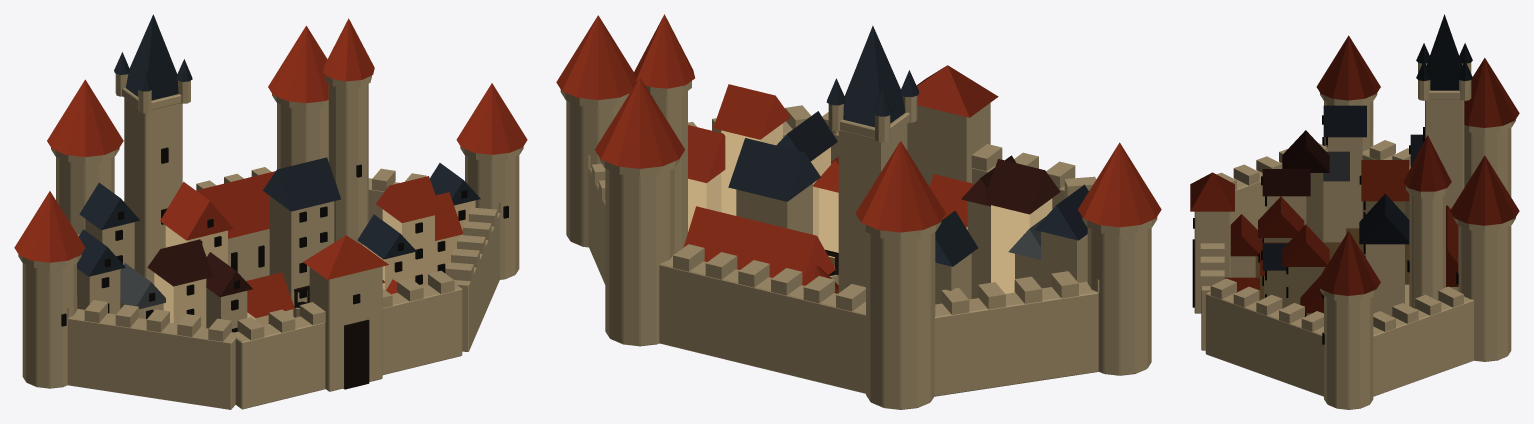
File: settle_3_2.obj
3 views of the same model, side by side, from view 1: azimuth 30°, elevation 25°; view 2: azimuth 150°, elevation 25°; view 3: azimuth 270°, elevation 25° (orthographic). The views are drawn at different scales.
Visible parts, largest first — view 1: core_stone, core_roof_civic, core_roof_slate, core_roof_tile, core_plaster, core_roof_tile_old, core_slate, core_window, core_wood_dark, core_roof_lead; view 2: core_stone, core_roof_civic, core_roof_slate, core_plaster, core_roof_tile, core_slate, core_roof_tile_old, core_roof_lead; view 3: core_stone, core_roof_civic, core_roof_tile, core_roof_slate, core_plaster, core_roof_tile_old, core_slate, core_cloth, core_roof_lead, core_window.
Boxes of the visible parts, <box> form: core_stone: <box>18,73,523,409</box>; core_roof_civic: <box>14,18,527,279</box>; core_roof_slate: <box>77,157,480,276</box>; core_roof_tile: <box>160,176,462,318</box>; core_plaster: <box>154,200,475,327</box>; core_roof_tile_old: <box>147,239,252,297</box>; core_slate: <box>114,14,192,100</box>; core_window: <box>61,147,508,332</box>; core_wood_dark: <box>294,285,369,389</box>; core_roof_lead: <box>119,263,165,309</box>; core_stone: <box>560,81,1157,409</box>; core_roof_civic: <box>556,14,1161,293</box>; core_roof_slate: <box>728,111,1088,266</box>; core_plaster: <box>688,123,1052,293</box>; core_roof_tile: <box>688,84,974,227</box>; core_slate: <box>826,25,918,127</box>; core_roof_tile_old: <box>961,155,1060,214</box>; core_roof_lead: <box>1008,216,1046,259</box>; core_stone: <box>1194,62,1515,409</box>; core_roof_civic: <box>1190,35,1519,295</box>; core_roof_tile: <box>1224,160,1409,313</box>; core_roof_slate: <box>1262,105,1423,309</box>; core_plaster: <box>1264,173,1404,315</box>; core_roof_tile_old: <box>1262,130,1329,196</box>; core_slate: <box>1416,14,1472,90</box>; core_cloth: <box>1255,214,1409,300</box>; core_roof_lead: <box>1323,151,1349,181</box>; core_window: <box>1193,115,1458,344</box>.
Bounding box in the file's own units: 1.87 × 1.02 × 1.17.
